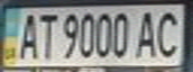0: (112, 8, 133, 59), (96, 9, 115, 60), (78, 9, 96, 60)
9: (57, 9, 81, 60)
A: (133, 7, 163, 60), (12, 9, 42, 61)
C: (151, 7, 187, 60)
T: (33, 9, 57, 61)
